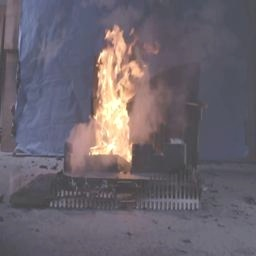fire: (86, 16, 164, 179)
